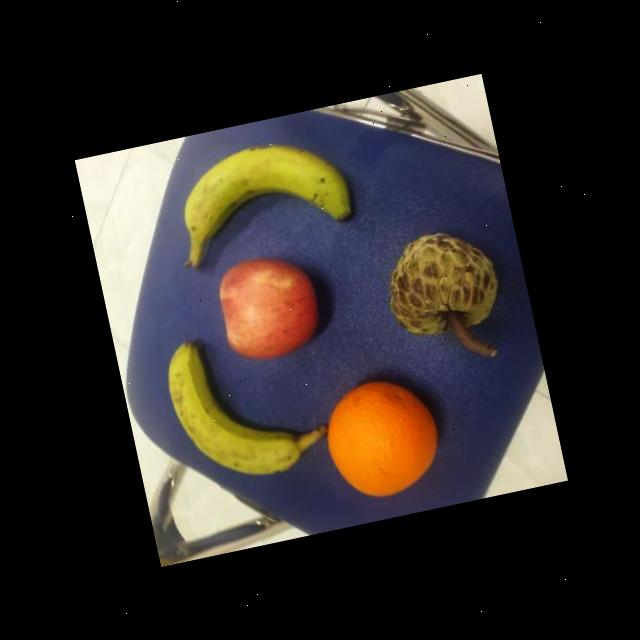Sakya fruit: (376, 220, 506, 346)
apple: (207, 246, 329, 369)
banana: (152, 316, 315, 496), (161, 123, 355, 272)
orange: (315, 368, 449, 508)
